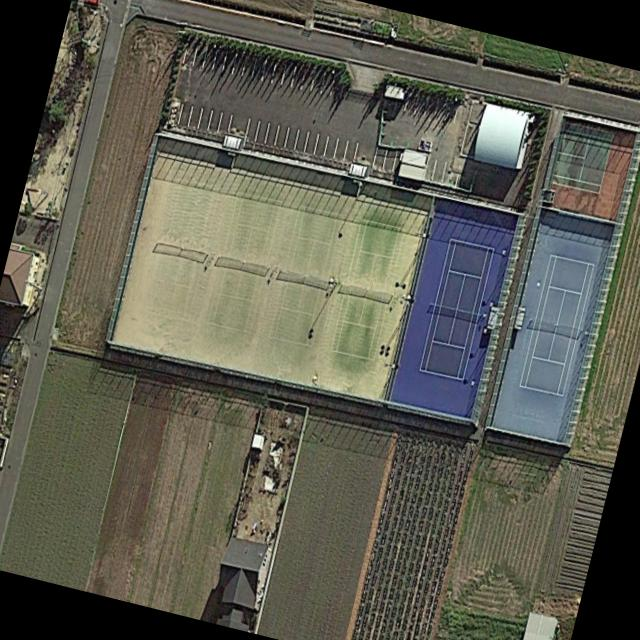small-vehicle: (82, 0, 98, 4)
